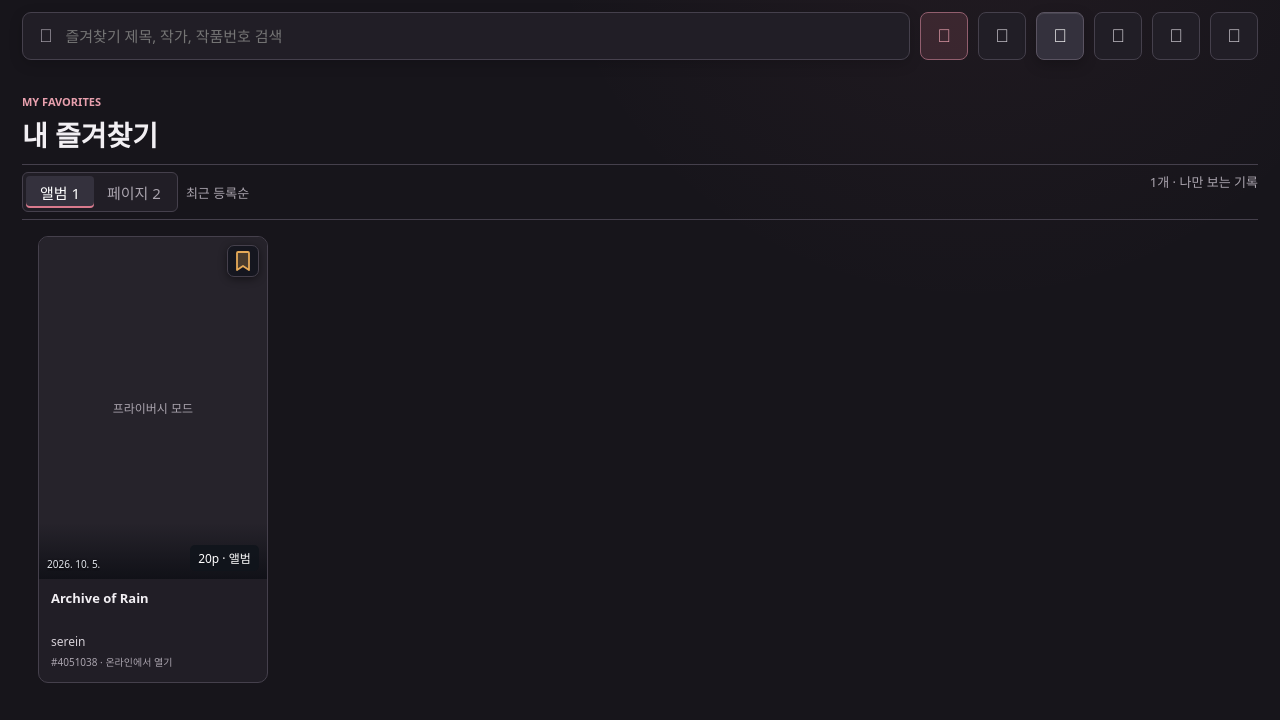
Test: private favorites and collections › shows legacy collected and unfiled items together in exactly two categories
Check: the number of list items with class "saved-card" is 1, box [38,236,268,683]
Click the button "페이지 2" at (134, 192), box [94,176,174,208]
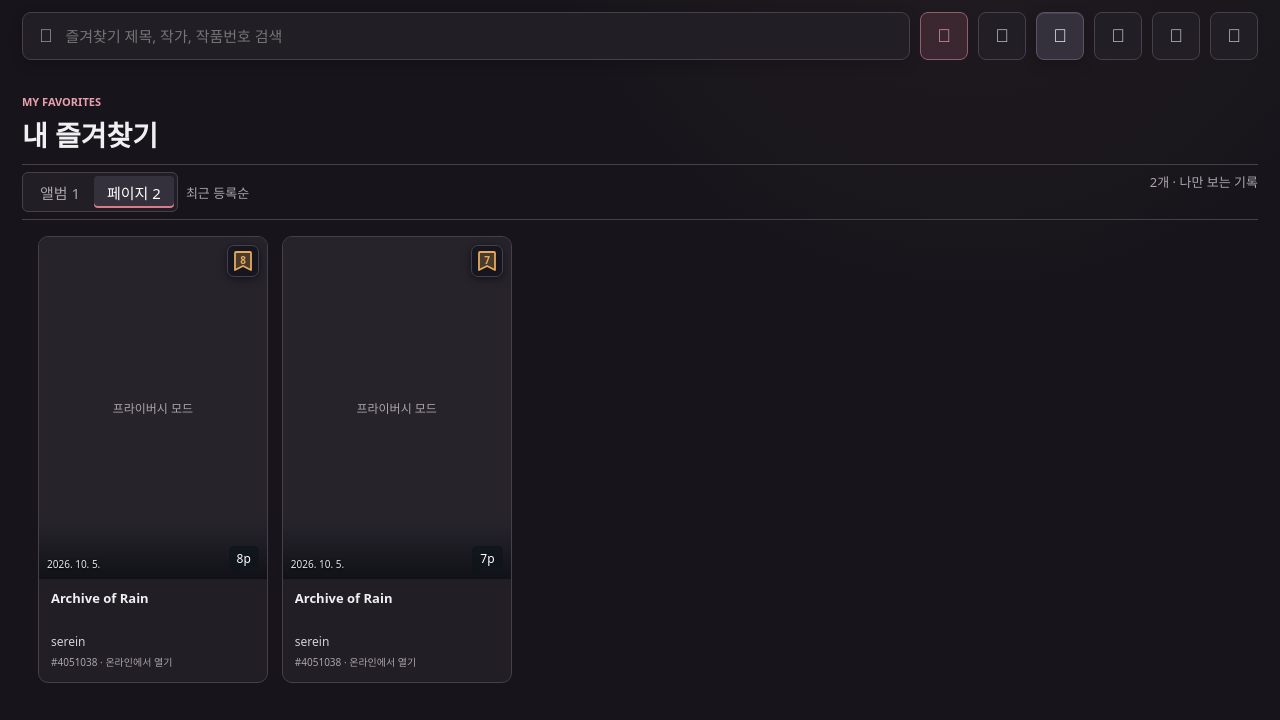
Check: the number of list items with class "saved-card" is 2, box [38,236,268,683]; [282,236,512,683]
